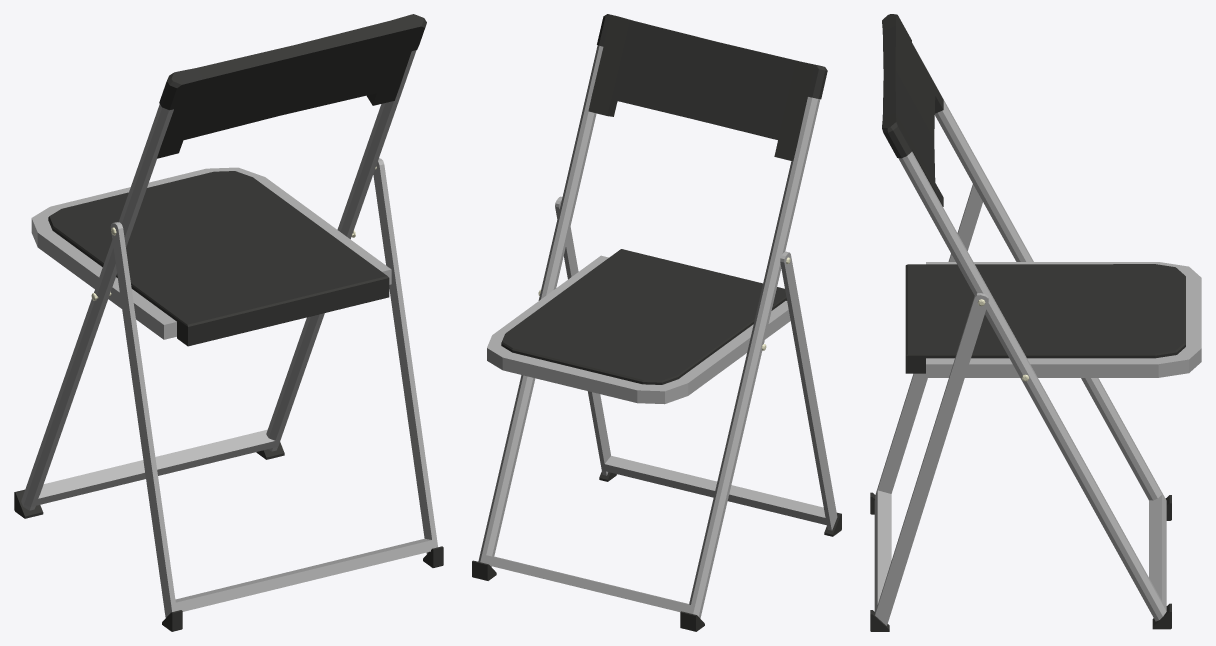
The model's file is chaise.fbx.
3 views of the same model, side by side, from view 1: azimuth 30°, elevation 25°; view 2: azimuth 150°, elevation 25°; view 3: azimuth 270°, elevation 25° (orthographic). The views are drawn at different scales.
Parts seen in each view (by area): view 1: Cube.007; view 2: Cube.007; view 3: Cube.007.
Part boxes in pixels (x1,y1,x2,y2): Cube.007: (14, 14, 443, 631); Cube.007: (472, 14, 841, 631); Cube.007: (870, 14, 1201, 631).
Bounding box in the file's own units: 215 × 413 × 247.
1 material, 1 textured.
